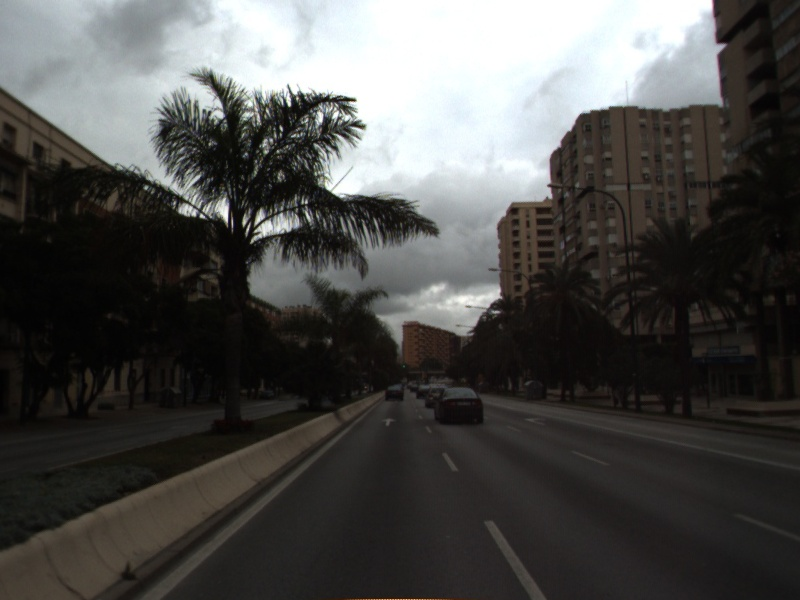RIGHT: (522, 414, 549, 428)
STRAIGHT: (379, 416, 399, 428)
